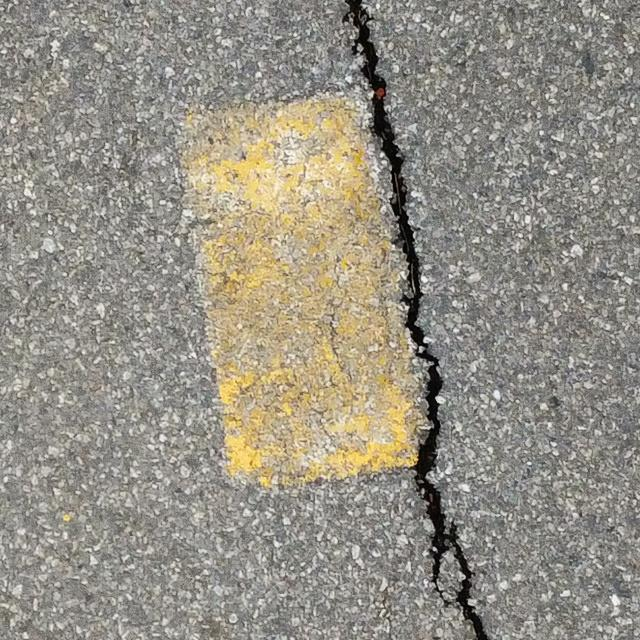LongitudinalCrack: (343, 1, 489, 640)
